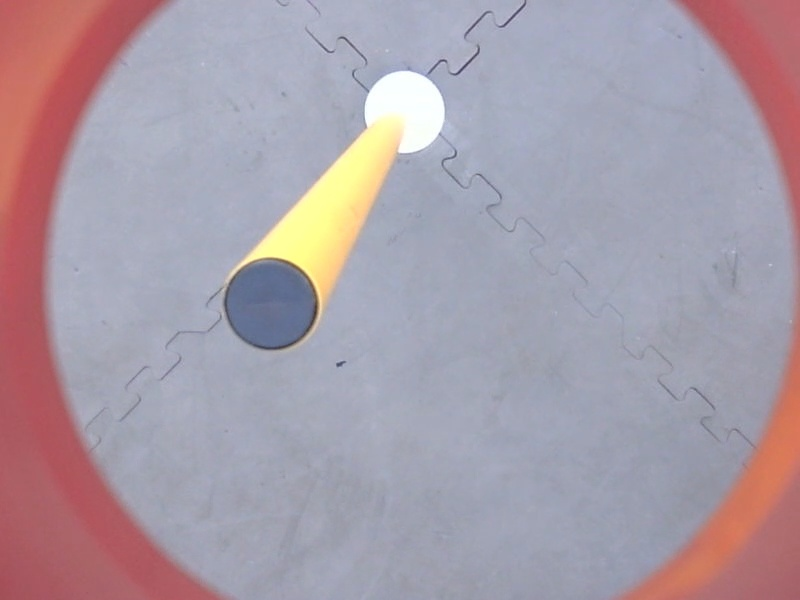tip: (212, 251, 326, 358)
